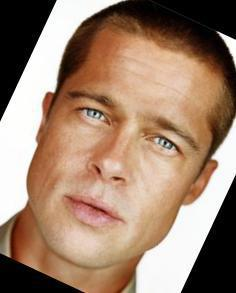Sober: (63, 31, 186, 249)
